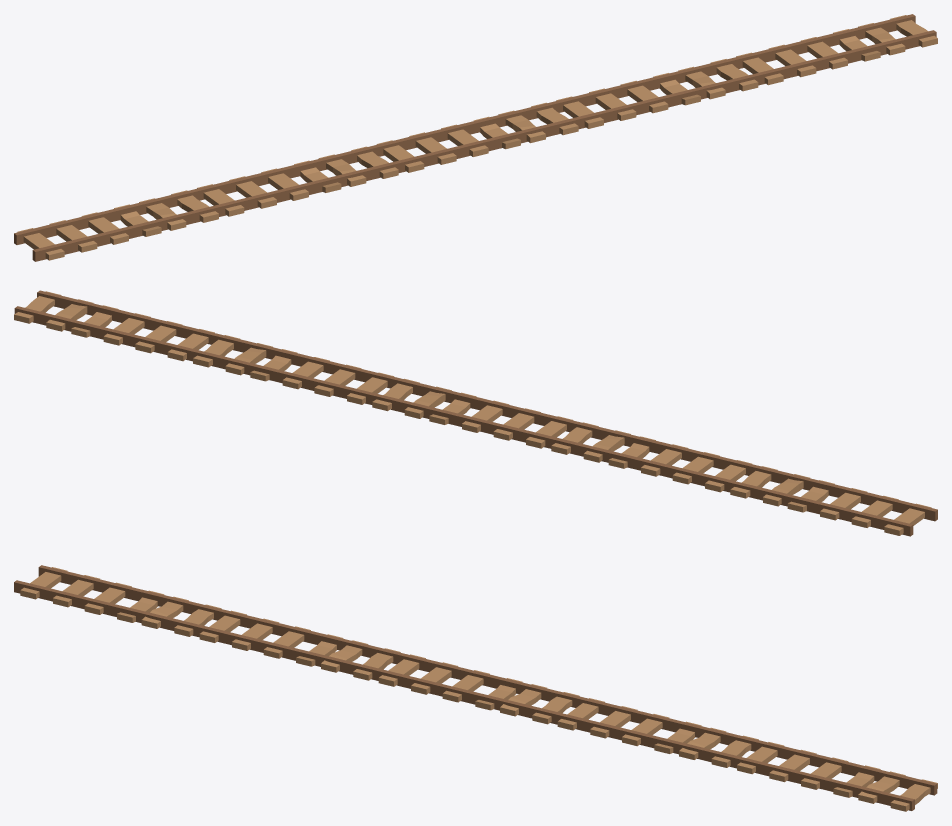
Rendered from Rail.fbx.
The picture shows the model from 3 angles, top to bottom: view 1: azimuth 30°, elevation 25°; view 2: azimuth 150°, elevation 25°; view 3: azimuth 330°, elevation 25°; orthographic projection.
Visible parts, largest first — view 1: Cube.003; view 2: Cube.003; view 3: Cube.003.
Part boxes in pixels (x1,y1,x2,y2): Cube.003: [14, 14, 937, 261]; Cube.003: [14, 290, 937, 536]; Cube.003: [14, 565, 937, 811].
Size of the model in its own units: 3257 by 40.33 by 200.
